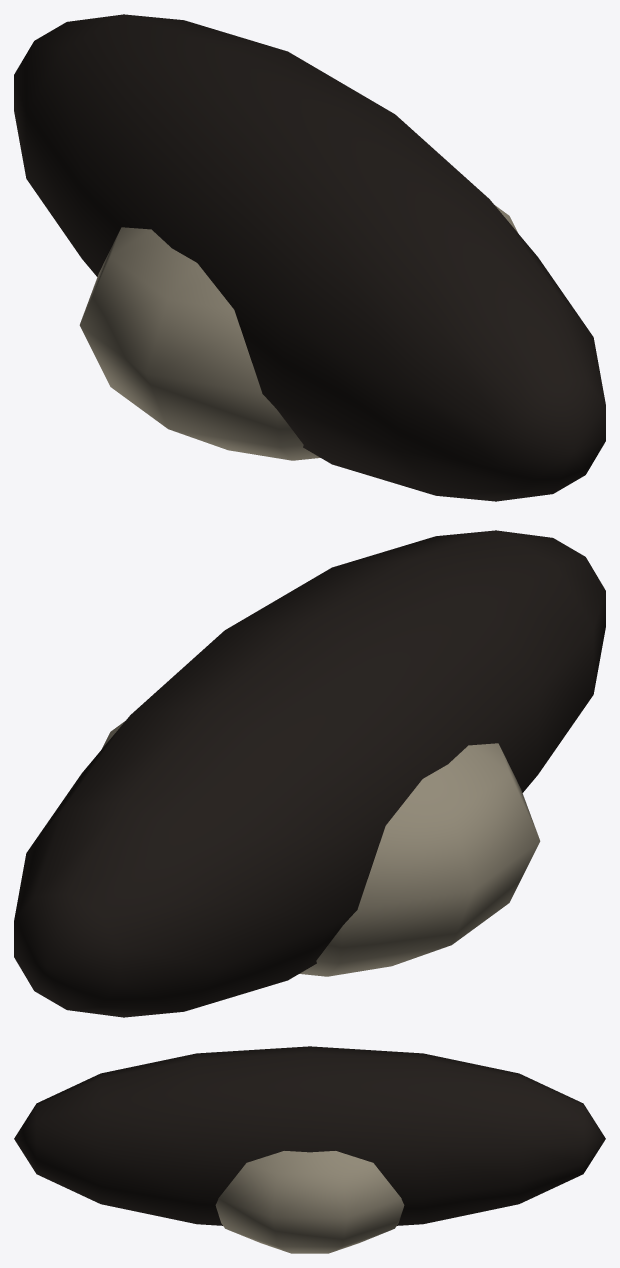
The model's file is mosquito_egg.obj.
3 renders of one model, top to bottom at view 1: azimuth 30°, elevation 25°; view 2: azimuth 150°, elevation 25°; view 3: azimuth 270°, elevation 25°, orthographic. The views are drawn at different scales.
Parts seen in each view (by area): view 1: part0, part1; view 2: part0, part1; view 3: part0, part1.
Part boxes in pixels (<box>): part0: <box>14,14,605,501</box>; part1: <box>79,205,517,460</box>; part0: <box>14,530,605,1017</box>; part1: <box>102,721,540,976</box>; part0: <box>14,1046,605,1225</box>; part1: <box>215,1151,404,1253</box>.
Bounding box in the file's own units: 0.0951 × 0.075 × 0.22.
